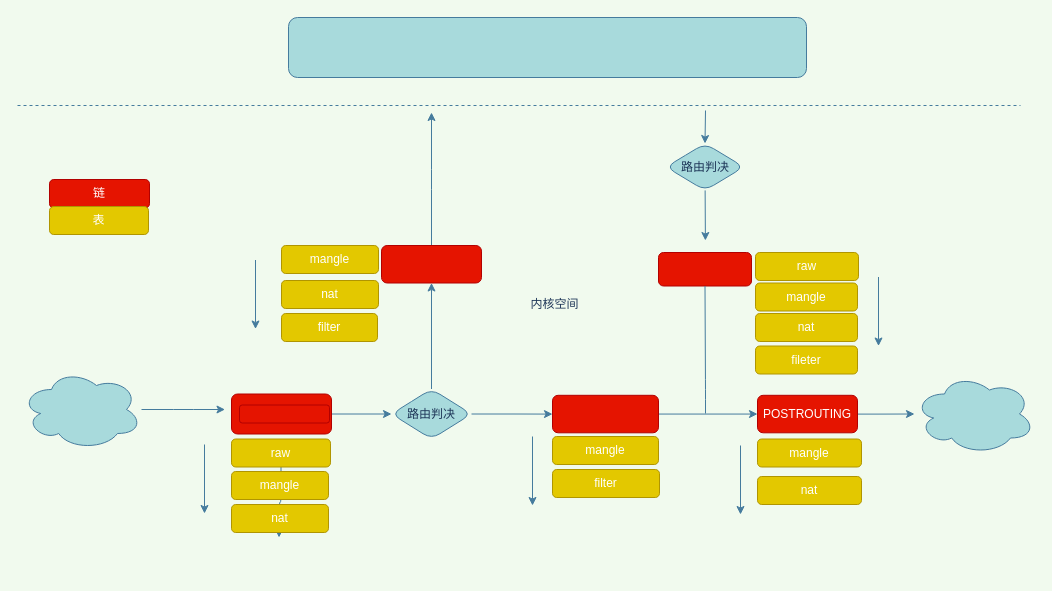
Image size: 1052x591. Some labels were removed from this diagram. The box of each missing label's shape, as (x1, y1, x2, y2) in pixels:
FORWARD: (552, 394, 658, 433)
INPUT: (380, 244, 482, 283)
OUTPUT: (658, 252, 752, 286)
PREROUTING: (238, 404, 330, 423)
入口: (20, 368, 142, 450)
出口: (914, 373, 1034, 454)
用户空间: (288, 16, 806, 78)
